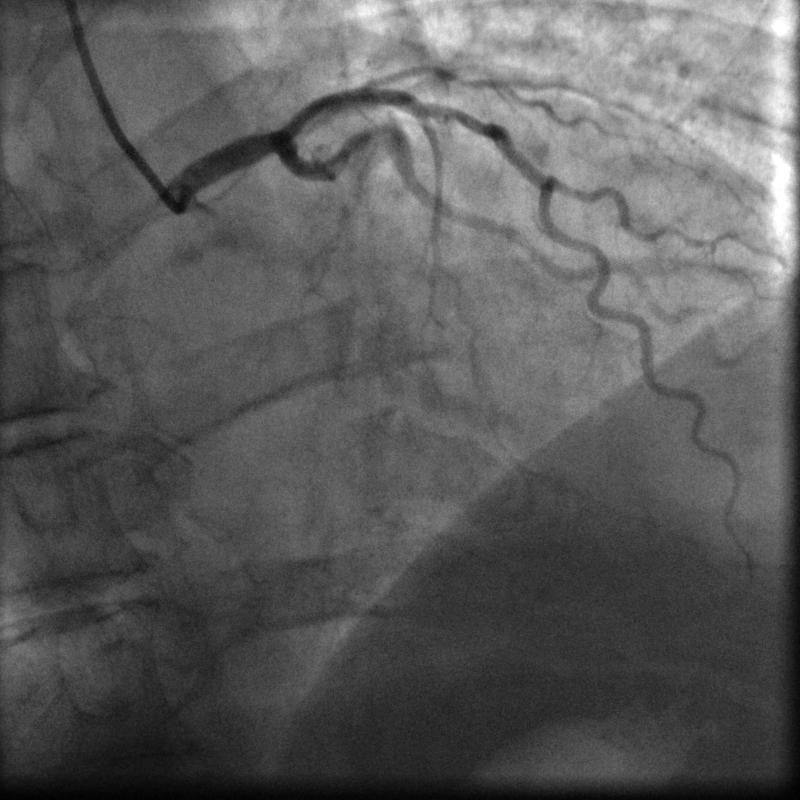Stenosis: (343, 120, 400, 144)
